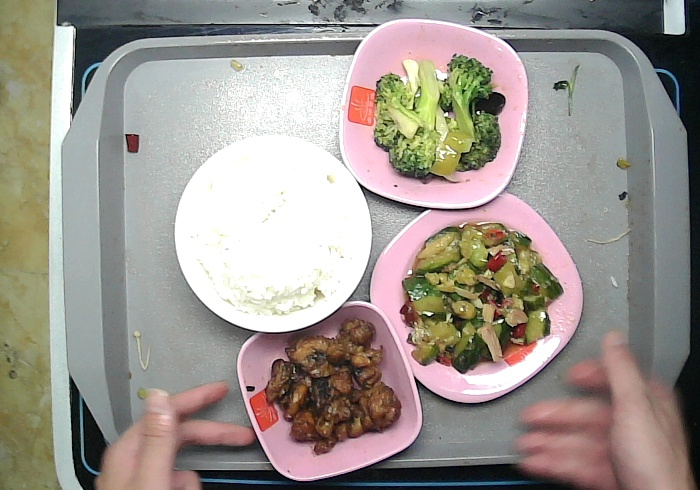SHKJ-Fan_Wan: (171, 132, 376, 334)
SHKJ-Fen_Se_Cai_Die: (335, 17, 531, 212)
SHKJ-Fen_Se_Si_Fang_Cai_Die: (366, 188, 587, 408)
SHKJ-Fen_Se_Xiao_Fang_Die: (234, 299, 425, 486)
